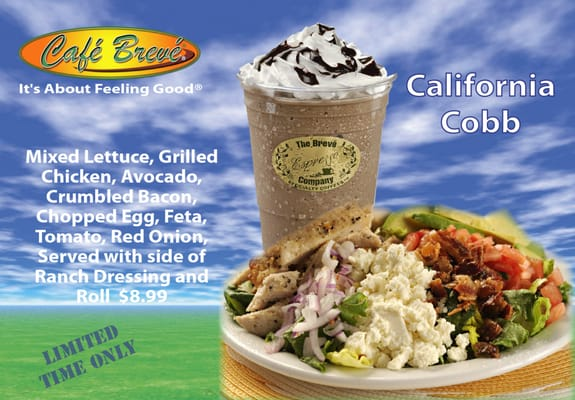pizza: (237, 67, 398, 252)
